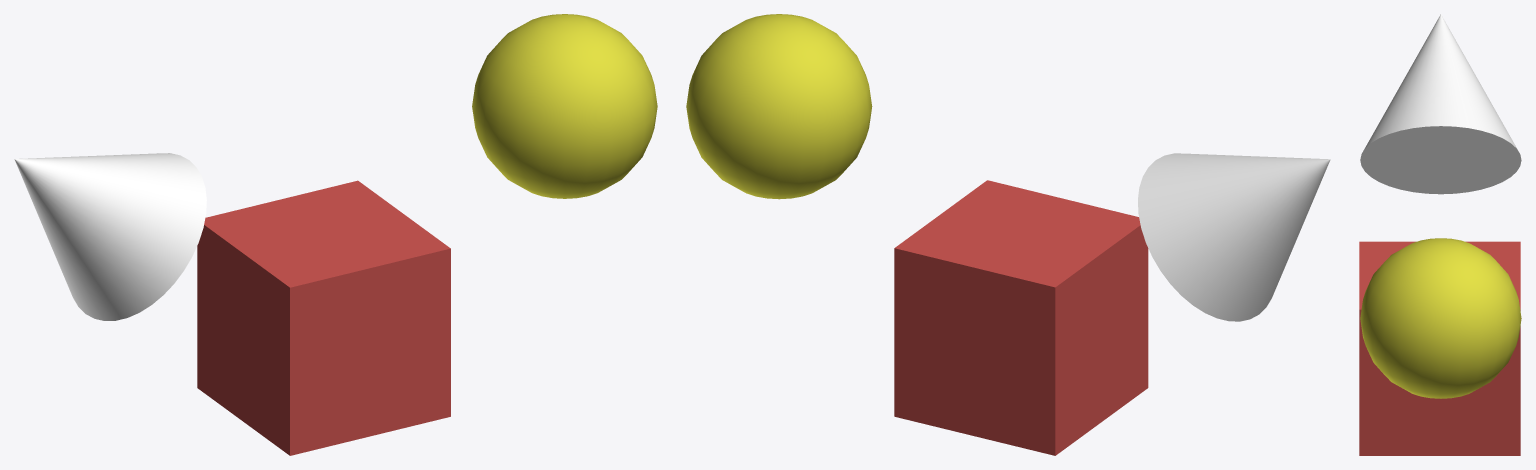
The picture shows the model from 3 angles, left to right: view 1: azimuth 30°, elevation 25°; view 2: azimuth 150°, elevation 25°; view 3: azimuth 270°, elevation 25°; orthographic projection. The views are drawn at different scales.
Visible parts, largest first — view 1: 立方体, 球体, 圆锥; view 2: 立方体, 球体, 圆锥; view 3: 球体, 圆锥, 立方体.
Boxes of the visible parts, x1,y1,x2,y2 form: 立方体: (197,180,450,455); 球体: (472,14,657,198); 圆锥: (14,153,206,320); 立方体: (894,180,1148,455); 球体: (686,14,872,199); 圆锥: (1138,153,1330,321); 球体: (1360,238,1521,398); 圆锥: (1360,14,1521,194); 立方体: (1359,241,1520,455).
Size of the model in its own units: 785 by 381 by 201.
